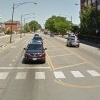crosswalk: (0, 69, 99, 80)
